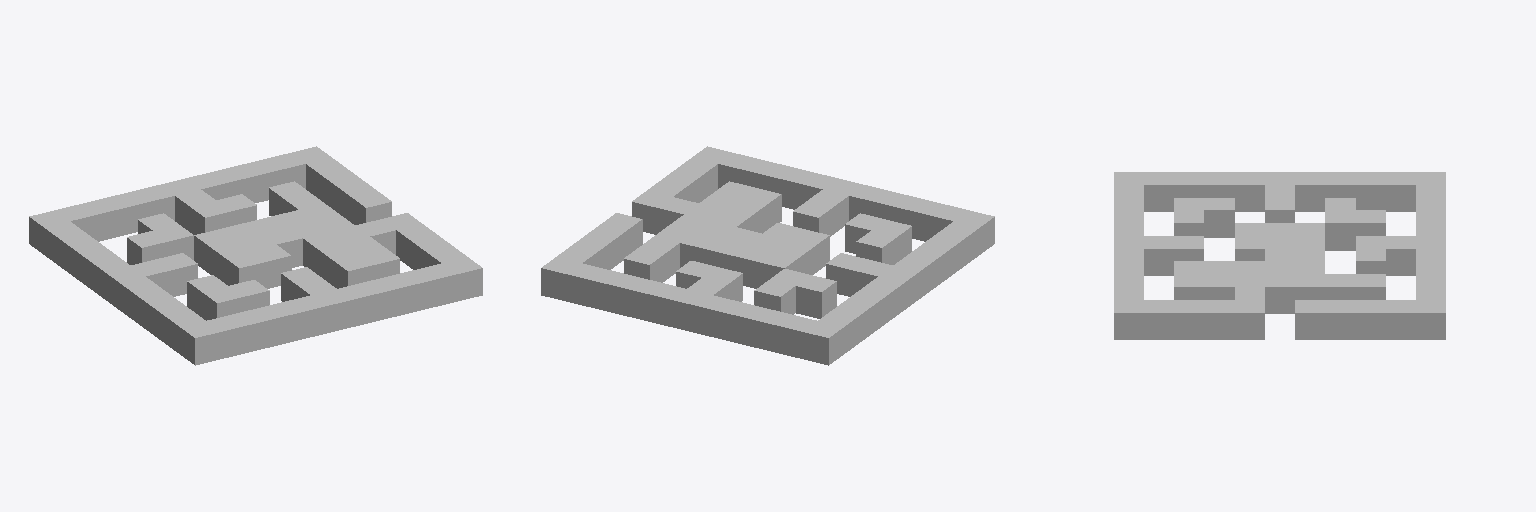
Rendered from map4.obj.
3 views of the same model, side by side, from view 1: azimuth 30°, elevation 25°; view 2: azimuth 150°, elevation 25°; view 3: azimuth 270°, elevation 25° (orthographic).
Parts seen in each view (by area): view 1: mergedBlocks; view 2: mergedBlocks; view 3: mergedBlocks.
Boxes of the visible parts, box(x1,y1,x2,y2) form: mergedBlocks: box(29, 146, 482, 365); mergedBlocks: box(541, 146, 994, 365); mergedBlocks: box(1114, 172, 1445, 339).
Size of the model in its own units: 11 by 1 by 11.